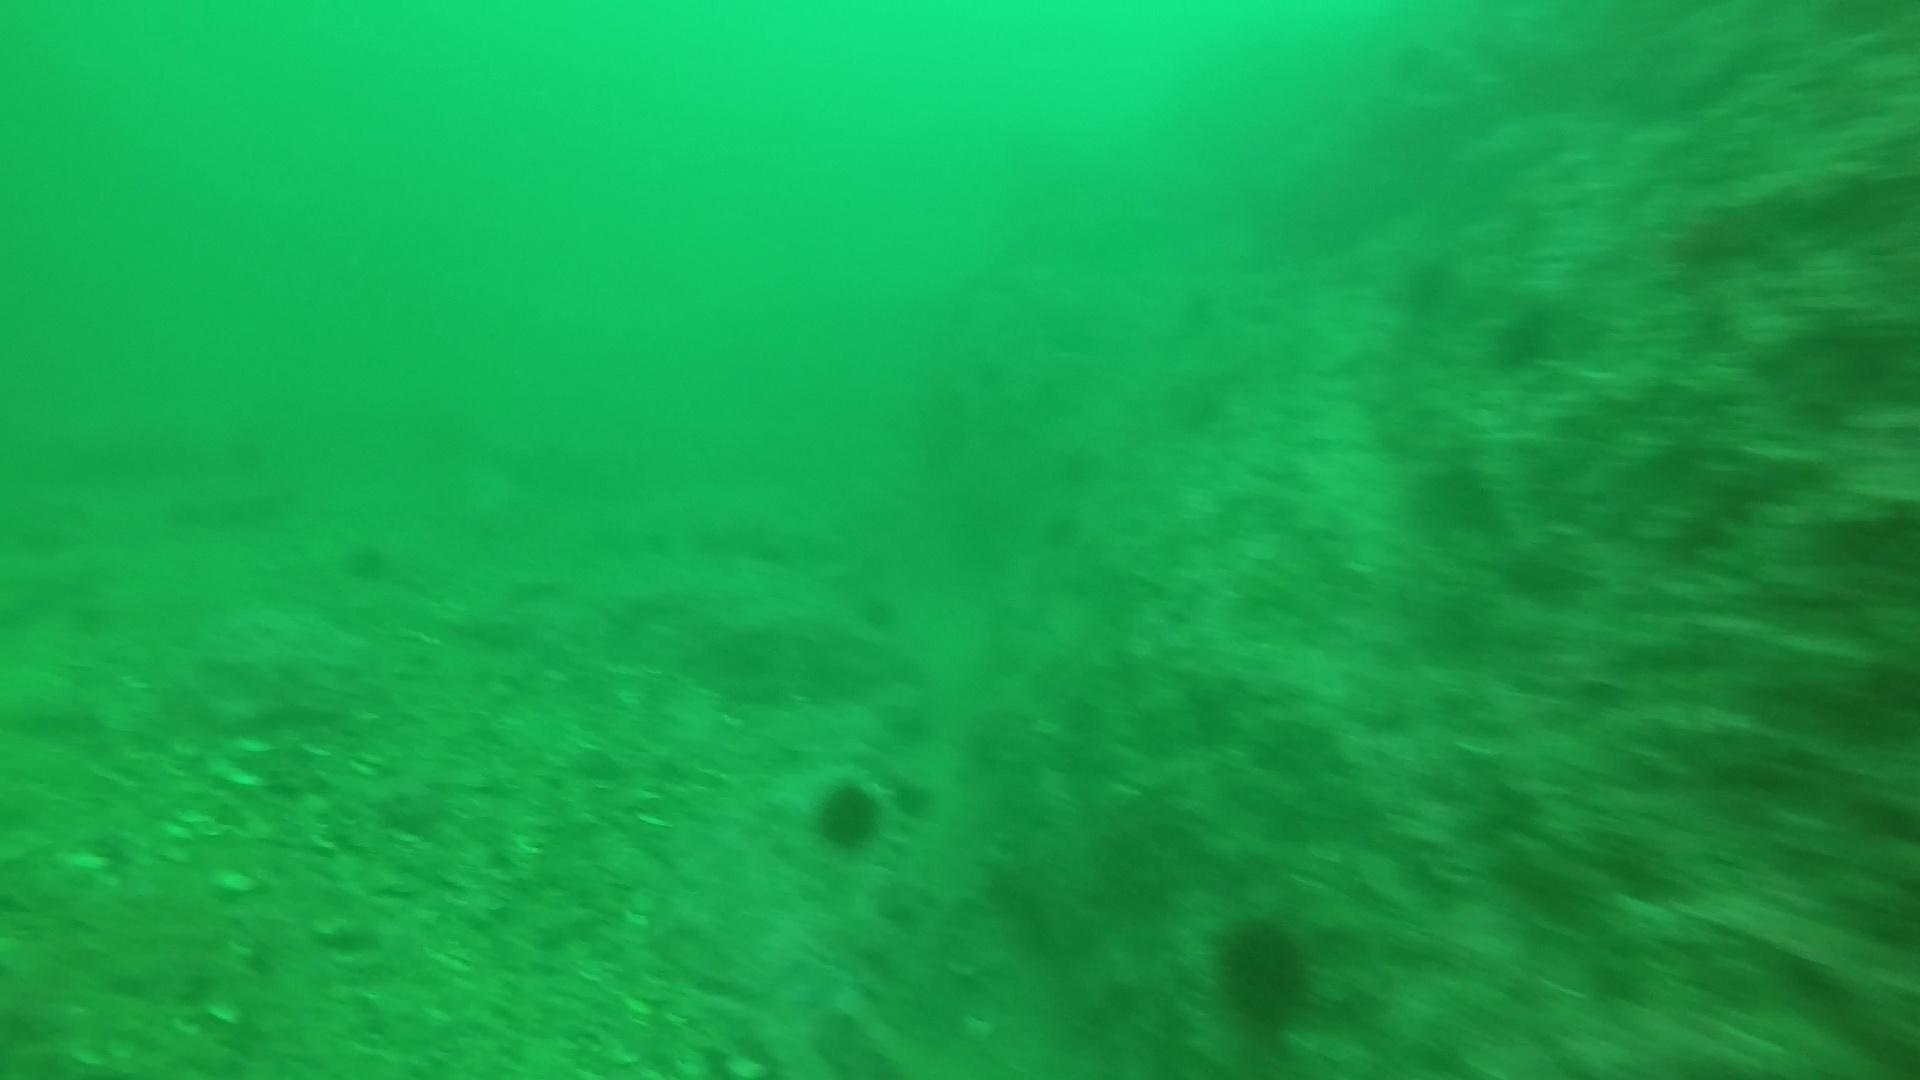echinus: (1207, 909, 1321, 1036), (810, 777, 895, 861), (328, 538, 397, 597), (208, 411, 268, 462), (878, 779, 935, 823), (878, 705, 935, 749), (1033, 506, 1079, 549), (1069, 436, 1113, 476), (858, 588, 903, 626)
